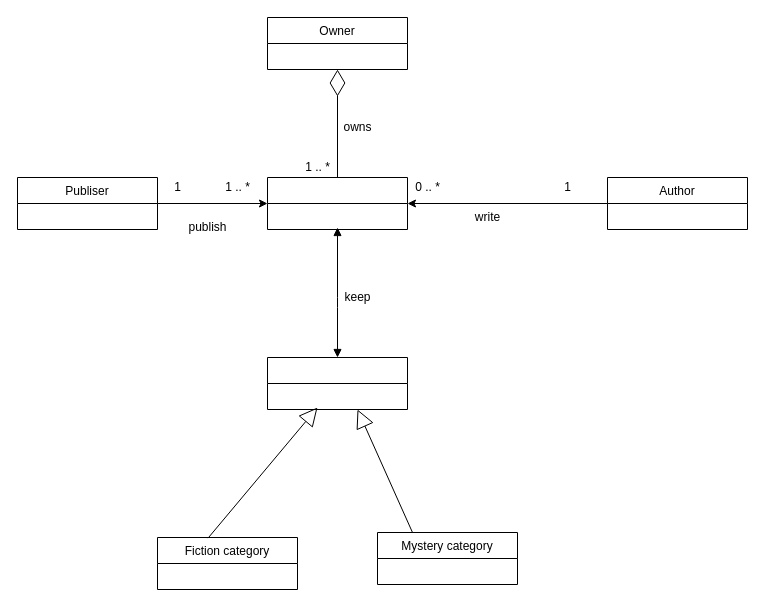
Image size: 765x607. Some labels were removed from this diagram. Each missing label, with the centre of its shape:
"Book" belongs at pixel 337 203.
"Library" belongs at pixel 337 383.
